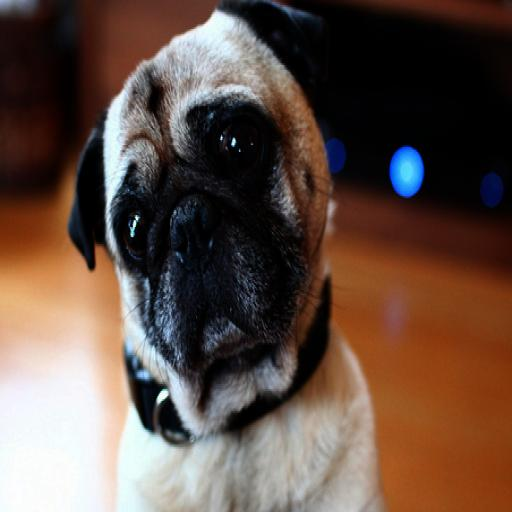dog_face: (63, 0, 333, 401)
